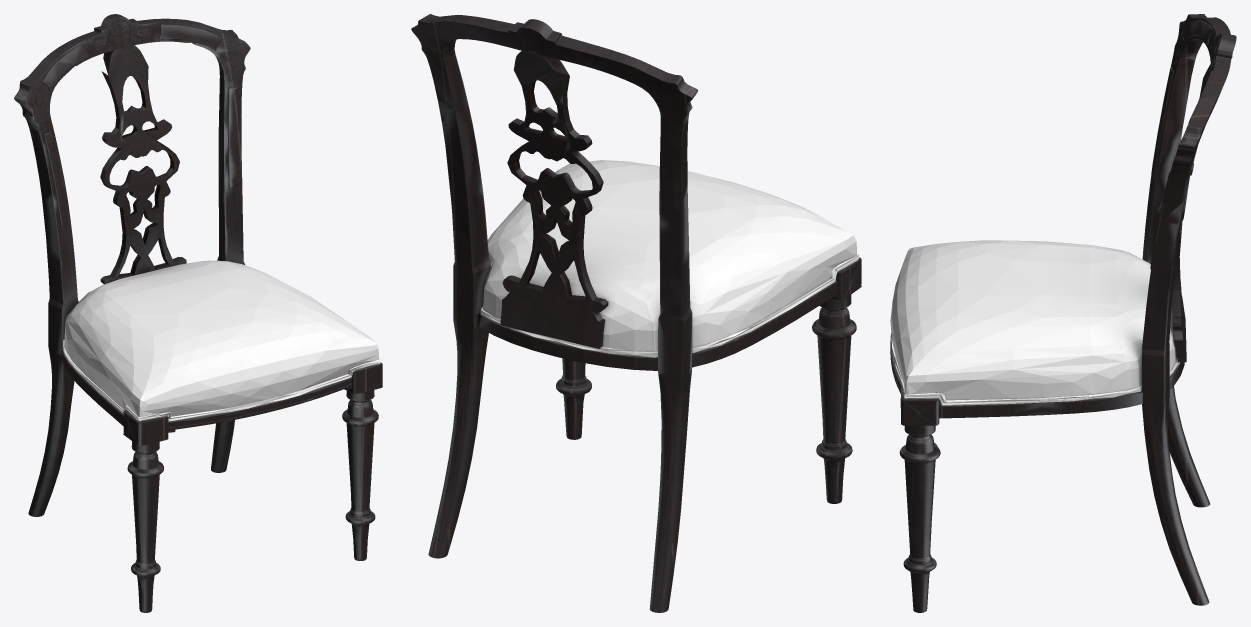
File: 0fb0494a-7124-462c-865f-22b33eac8329.gltf
3 renders of one model, left to right at view 1: azimuth 30°, elevation 25°; view 2: azimuth 150°, elevation 25°; view 3: azimuth 270°, elevation 25°, orthographic. The views are drawn at different scales.
Visible parts, largest first — view 1: Node; view 2: Node; view 3: Node.
Part boxes in pixels (<box>): Node: <box>14,14,382,612</box>; Node: <box>411,14,861,612</box>; Node: <box>890,14,1236,612</box>.
Size of the model in its own units: 0.5459 by 0.9913 by 0.6004.
1 material, 1 textured.
